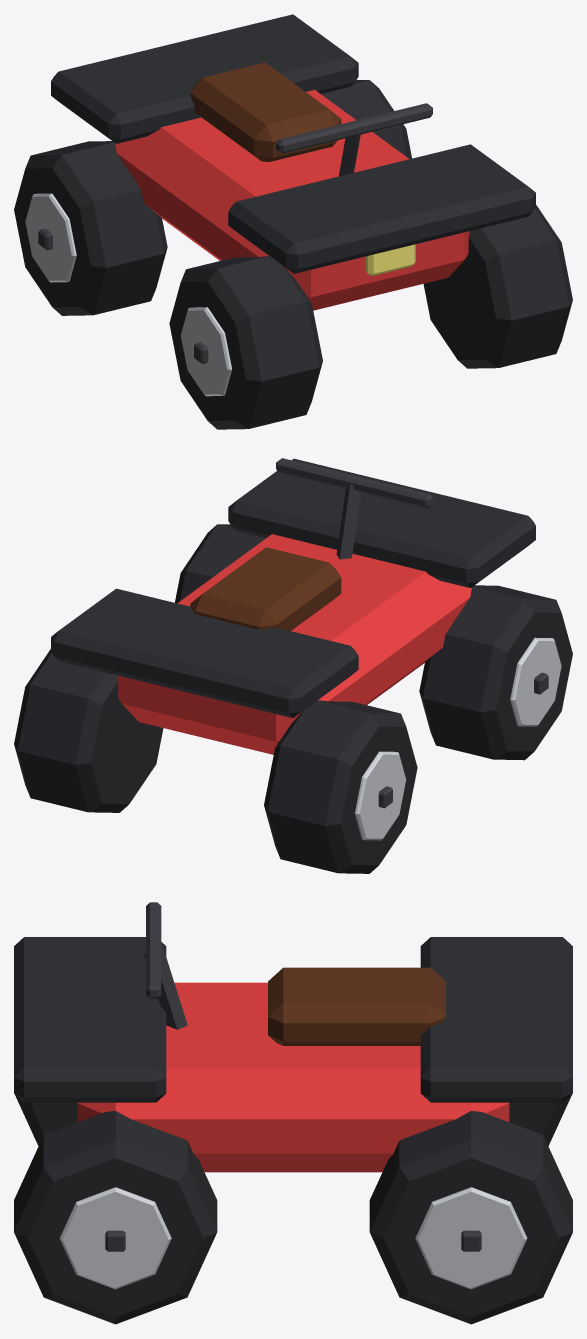
The model's file is ATV.fbx.
3 renders of one model, top to bottom at view 1: azimuth 30°, elevation 25°; view 2: azimuth 150°, elevation 25°; view 3: azimuth 270°, elevation 25°, orthographic. The views are drawn at different scales.
Visible parts, largest first — view 1: ATV, ATV_WheelFR, ATV_WheelBR, ATV_WheelFL, ATV_WheelBL; view 2: ATV, ATV_WheelBR, ATV_WheelFR, ATV_WheelBL, ATV_WheelFL; view 3: ATV, ATV_WheelBL, ATV_WheelFL, ATV_WheelBR, ATV_WheelFR.
Boxes of the visible parts, x1,y1,x2,y2 form: ATV: (51,14,535,310); ATV_WheelFR: (169,256,322,429); ATV_WheelBR: (14,141,167,315); ATV_WheelFL: (423,205,572,368); ATV_WheelBL: (321,80,411,158); ATV: (51,458,535,754); ATV_WheelBR: (264,700,417,873); ATV_WheelFR: (419,585,572,760); ATV_WheelBL: (14,649,163,812); ATV_WheelFL: (175,524,265,603); ATV: (14,902,572,1172); ATV_WheelBL: (369,1110,572,1324); ATV_WheelFL: (14,1110,217,1324); ATV_WheelBR: (509,1094,572,1145); ATV_WheelFR: (14,1094,77,1145).
Size of the model in its own units: 3.62 by 2.56 by 4.4.
Materials: 1 (1 with a texture image).
